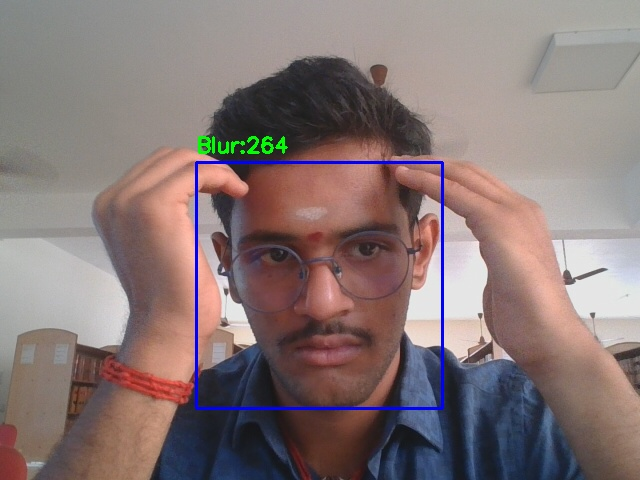real: (196, 162, 442, 408)
